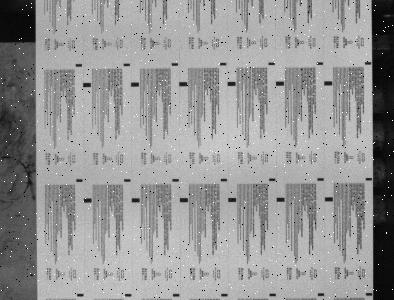backgroundclutter: (30, 273, 34, 276)
qblock: (324, 81, 333, 86), (228, 197, 237, 202), (276, 81, 284, 86), (131, 82, 139, 87), (277, 197, 285, 202), (179, 82, 188, 86), (325, 197, 334, 201), (131, 198, 140, 202), (228, 82, 236, 86), (83, 83, 91, 87), (84, 198, 92, 202), (180, 198, 188, 202)
smallqblock: (75, 63, 82, 67), (220, 62, 227, 66), (172, 178, 179, 182), (366, 177, 373, 181), (221, 293, 228, 297), (123, 63, 130, 66), (172, 63, 179, 66), (268, 62, 275, 65), (317, 62, 324, 65), (76, 179, 83, 182), (124, 179, 131, 182), (365, 62, 372, 65), (269, 178, 276, 181), (221, 178, 228, 181), (318, 178, 325, 181), (77, 293, 84, 296), (125, 293, 132, 296), (270, 293, 277, 296), (173, 293, 180, 296), (318, 293, 325, 296), (366, 292, 373, 295)
